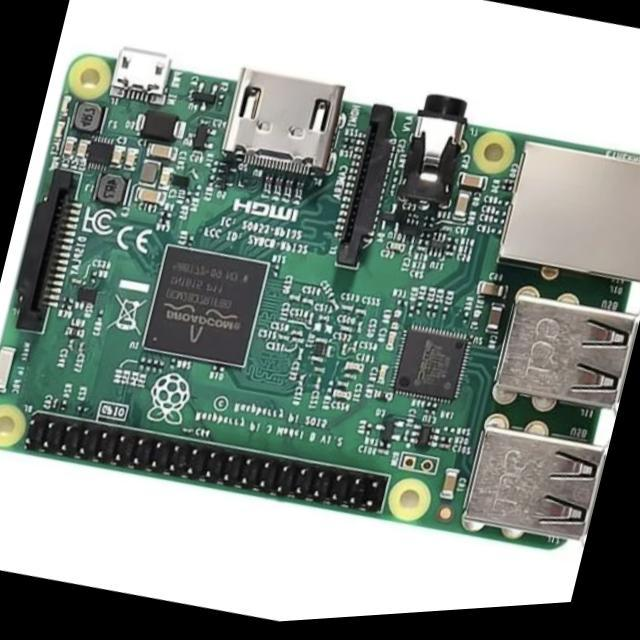Raspberry Pi 3 B-: (1, 49, 640, 547)
